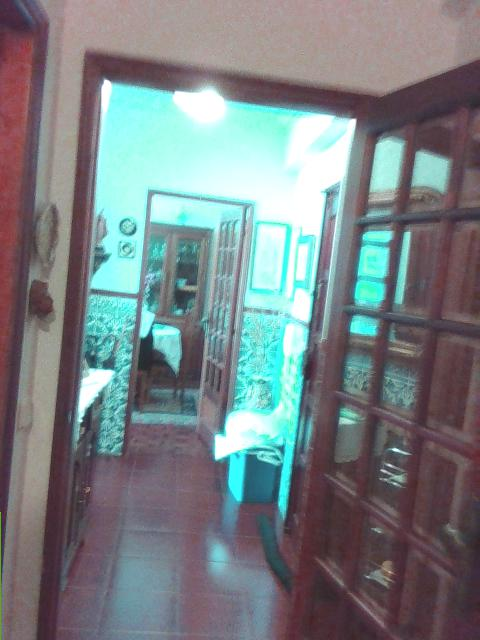open_door: (36, 47, 379, 639)
